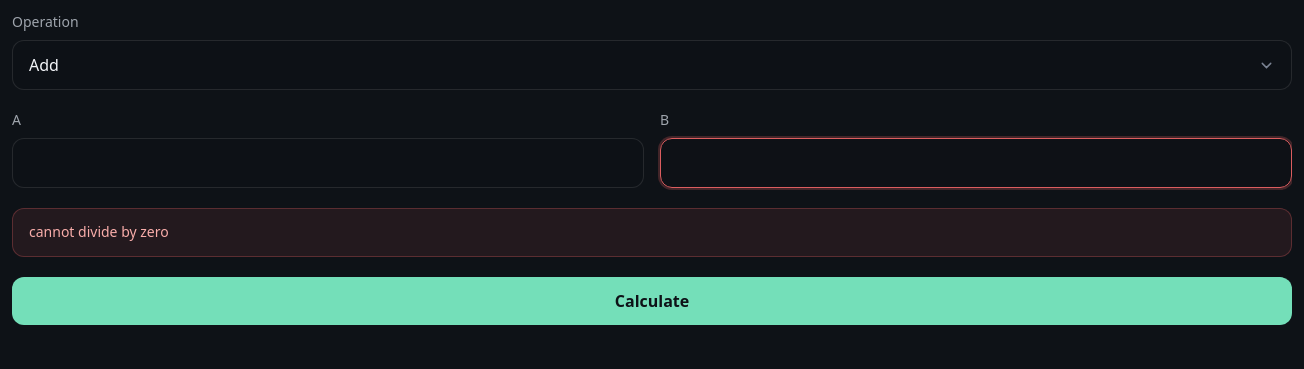
Test case: CalculatorForm › replaces a stale server error with a new validation error instead of stacking them
Expected: the message reads "cannot divide by zero", 29,222 -> 169,241
Click the button "Calculate". click: (652, 301)
box: 12,277 -> 1292,325
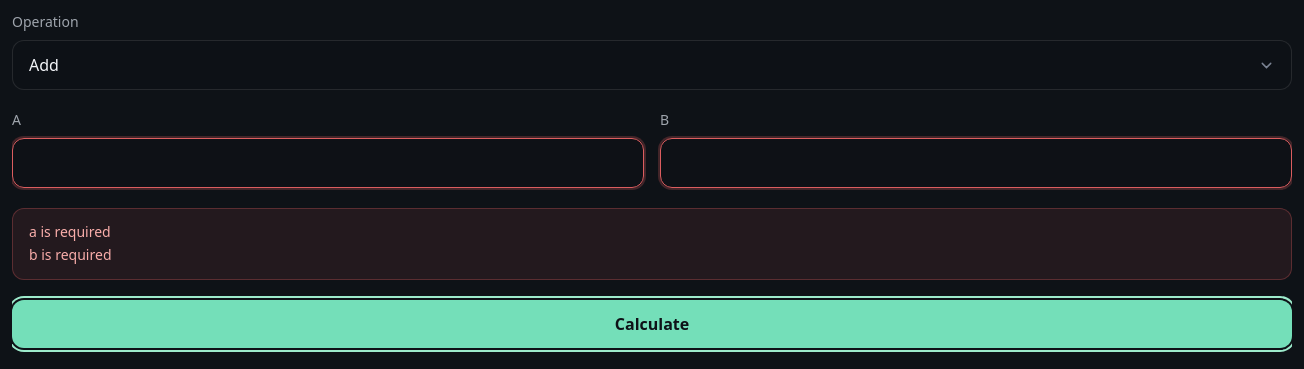
Now the message shows "a is required", box 29,222 -> 111,241
Now the message no longer shows "cannot divide by zero", box 12,208 -> 1292,280
